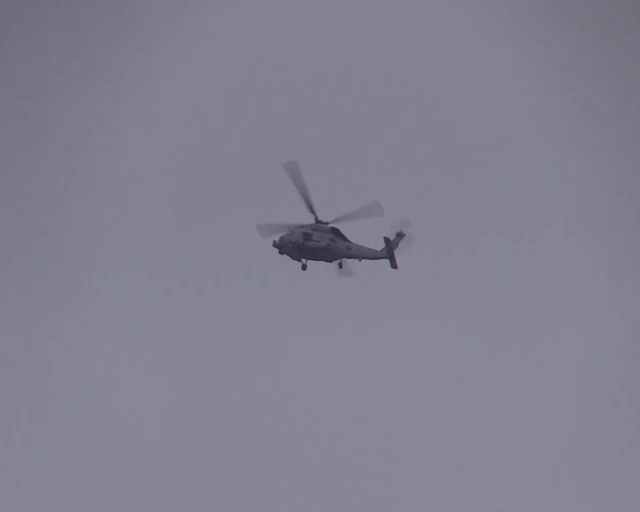HELICOPTER: (256, 160, 408, 273)
